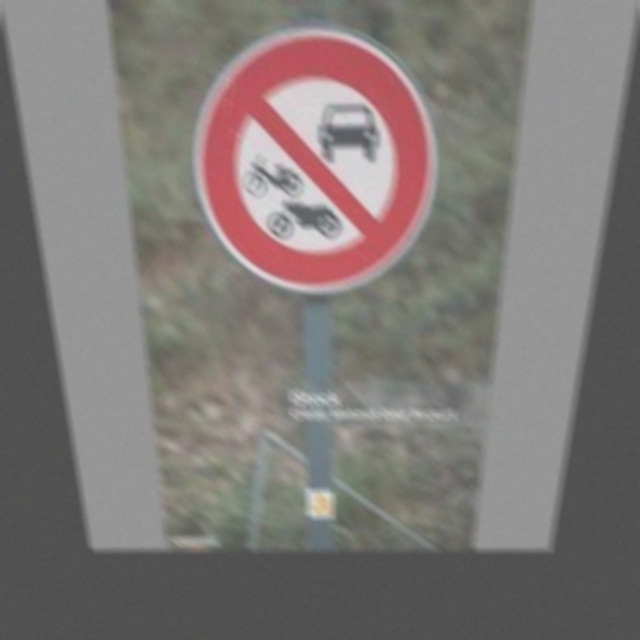All_Motor_Vehicles_Prohibited: (184, 23, 441, 290)
